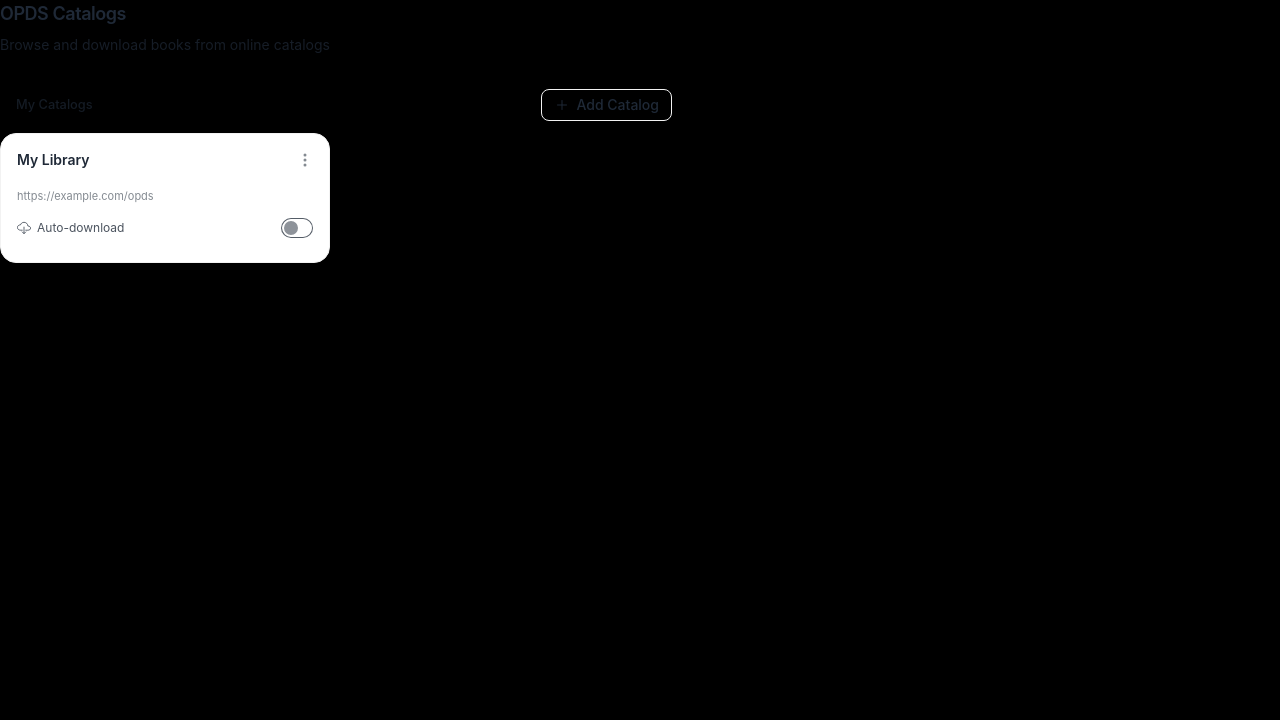
CatalogManager auto-download confirmation (#5746) › cancelling leaves auto-download untouched and starts no download
The width and height of the screenshot is (1280, 720).
Click the checkbox labelled "Auto-download": (297, 228) [281, 218, 313, 238]
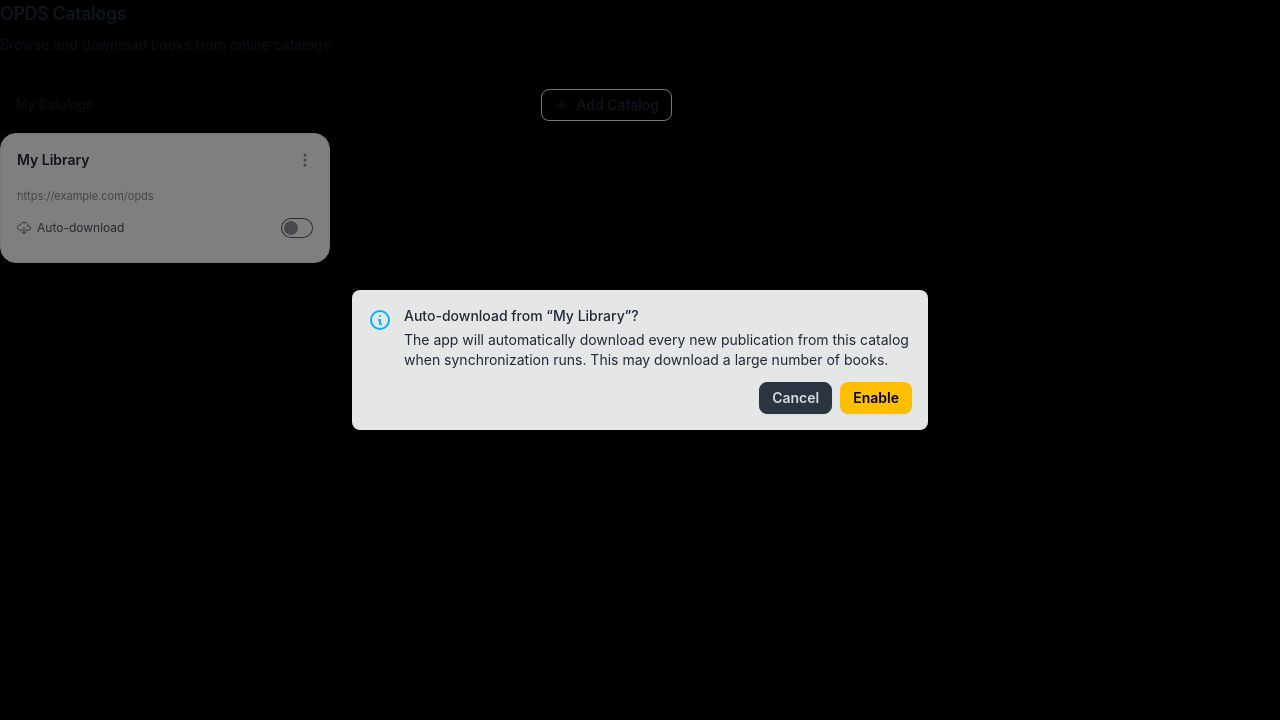
Click the button "Cancel": (796, 398) [759, 382, 832, 414]
Wait 5000 ms
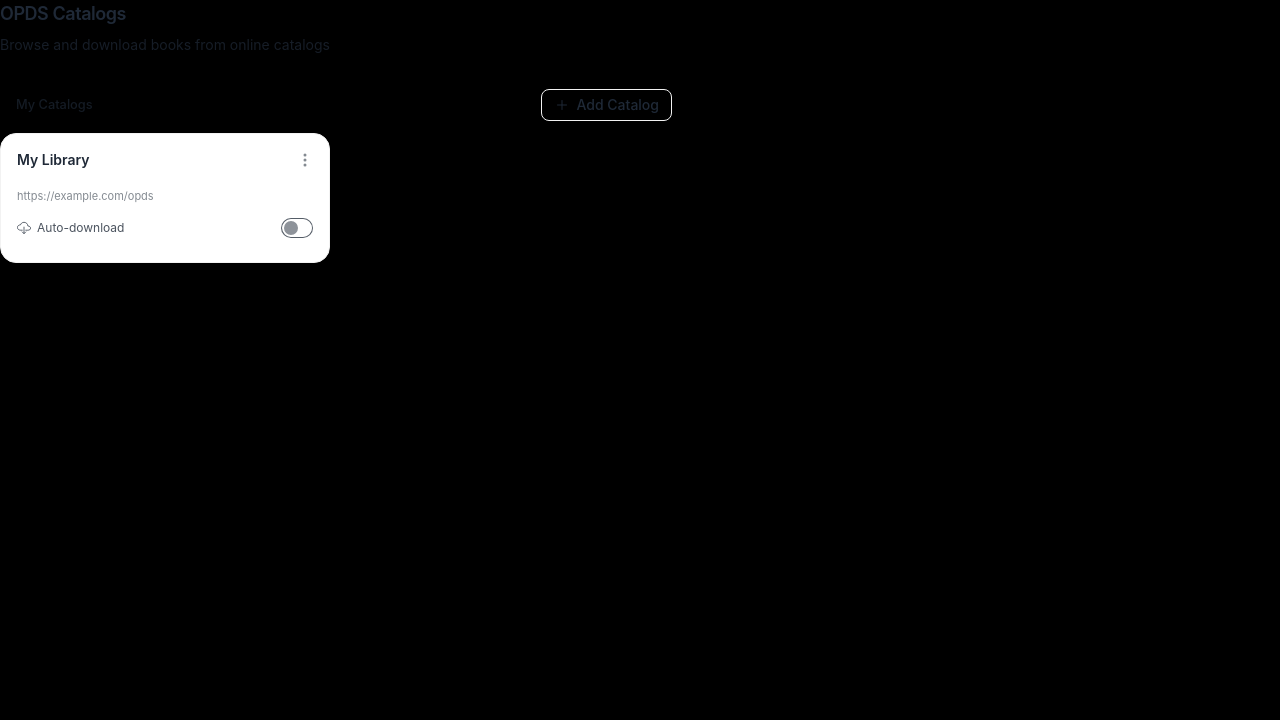
Expected: the checkbox labelled "Auto-download" is not checked, [281, 218, 313, 238]
Result: the heading "Auto-download from “My Library”?" is gone
